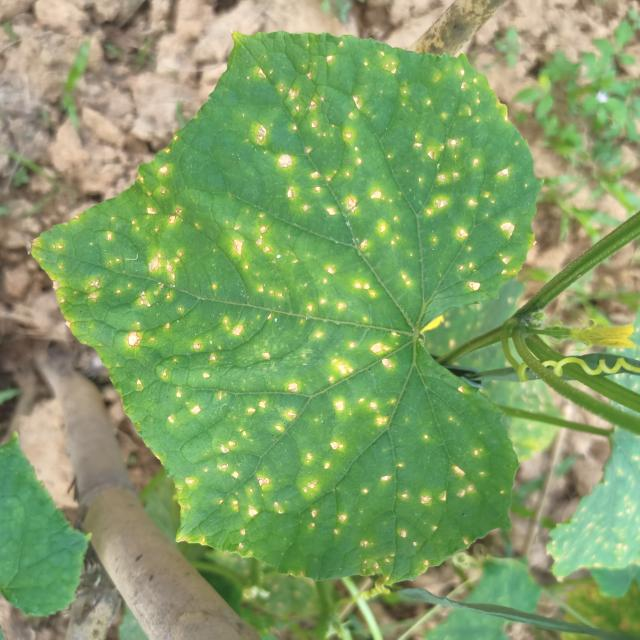disease_cucumber: (74, 63, 528, 551)
